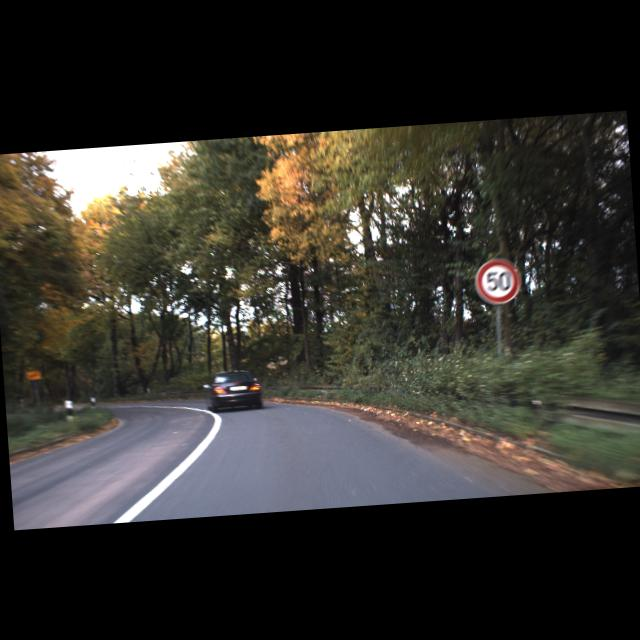prohibitory: (474, 258, 520, 304)
